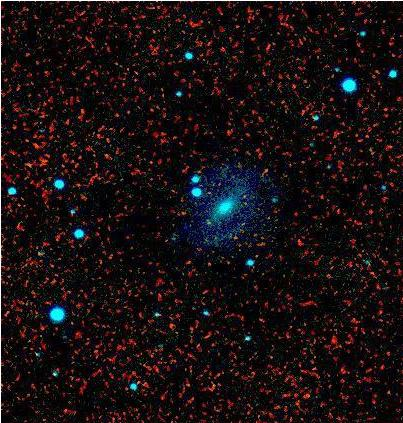star: (193, 206, 223, 236)
